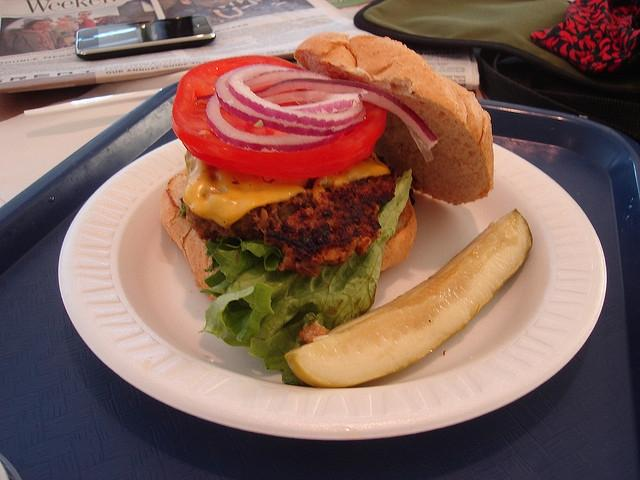onion: (248, 79, 438, 148), (215, 66, 366, 136), (226, 65, 362, 128), (205, 93, 344, 153), (262, 90, 362, 115)
tomato: (171, 56, 387, 180)
